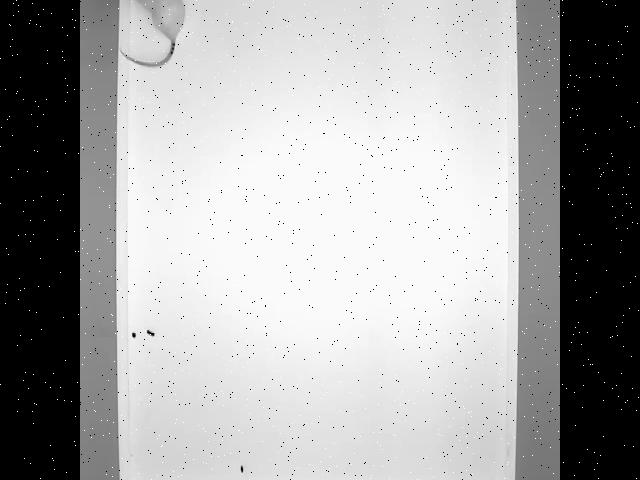Tikus: (117, 0, 185, 65)
